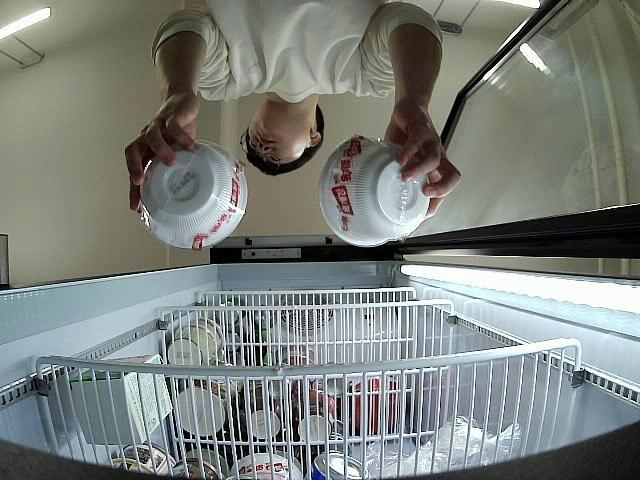09_yukGaeJang: (136, 138, 250, 251), (317, 134, 428, 247)
